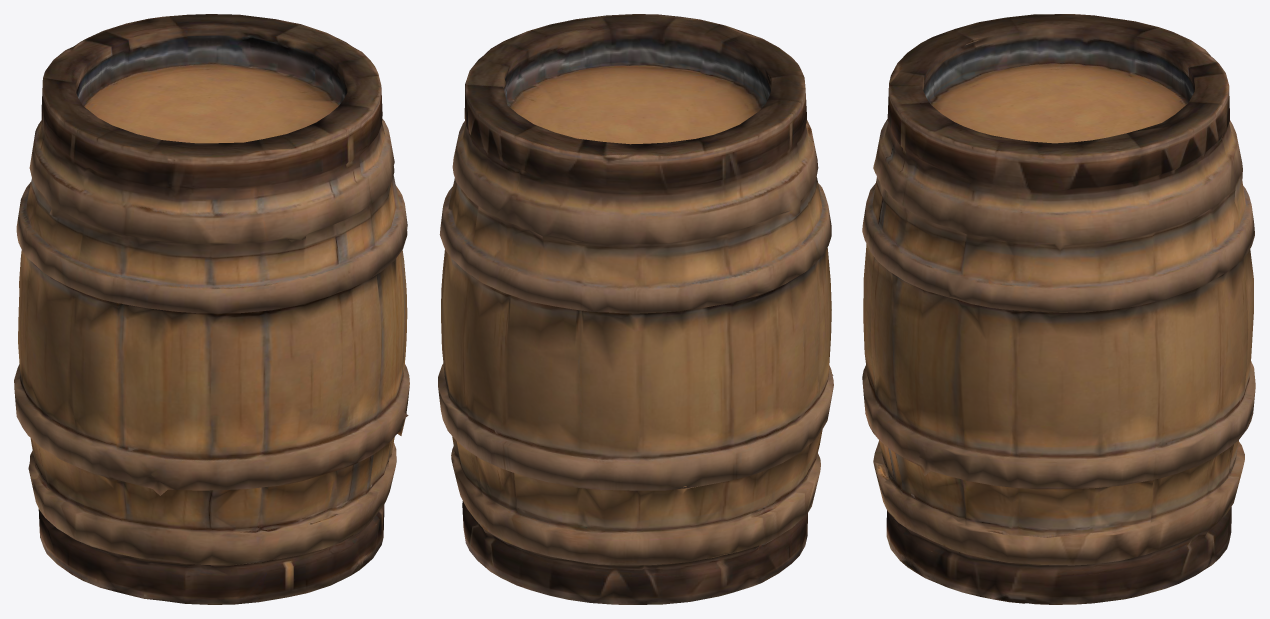
File: Low_poly_barrel_meta_1028222541_texture.glb
The picture shows the model from 3 angles, left to right: view 1: azimuth 30°, elevation 25°; view 2: azimuth 150°, elevation 25°; view 3: azimuth 270°, elevation 25°; orthographic projection.
Visible parts, largest first — view 1: Mesh1.0; view 2: Mesh1.0; view 3: Mesh1.0.
Part boxes in pixels (x1,y1,x2,y2): Mesh1.0: (14,14,409,604); Mesh1.0: (438,14,833,604); Mesh1.0: (862,14,1255,604).
Bounding box in the file's own units: 1.09 × 1.37 × 1.09.
Materials: 1 (1 with a texture image).
